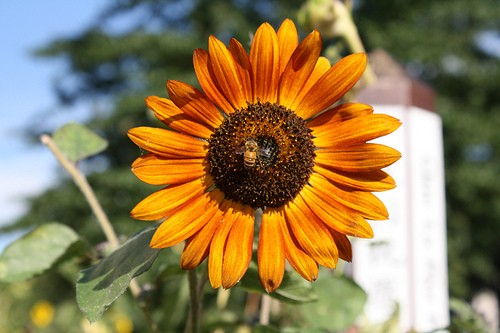flower: (125, 14, 407, 297)
